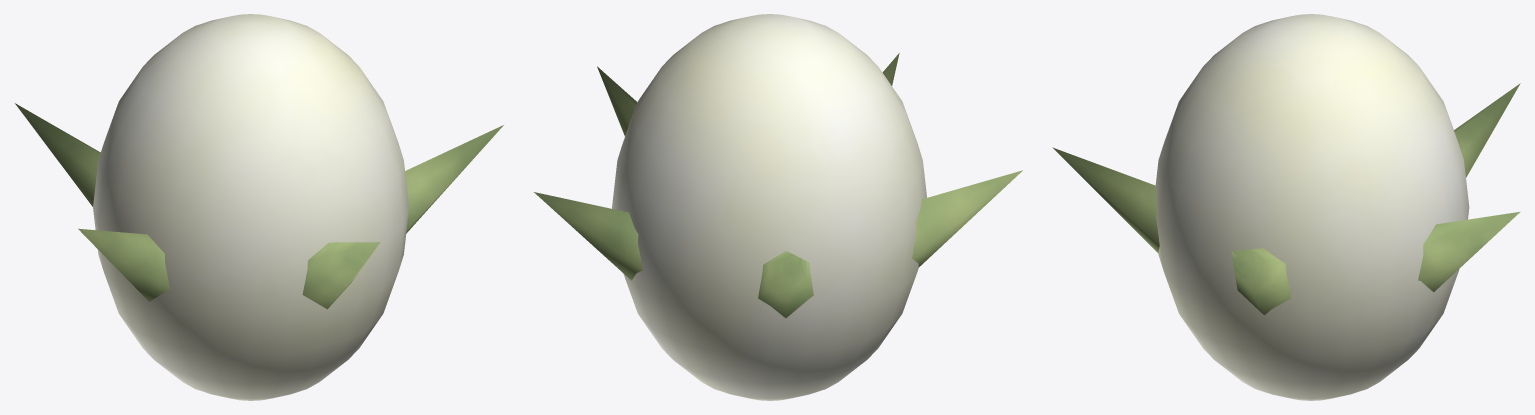
Rendered from xen_planta_foco.obj.
3 renders of one model, left to right at view 1: azimuth 30°, elevation 25°; view 2: azimuth 150°, elevation 25°; view 3: azimuth 270°, elevation 25°, orthographic.
Visible parts, largest first — view 1: xen_planta_foco; view 2: xen_planta_foco; view 3: xen_planta_foco.
Boxes of the visible parts, x1,y1,x2,y2 form: xen_planta_foco: [15, 14, 503, 400]; xen_planta_foco: [534, 14, 1022, 400]; xen_planta_foco: [1052, 14, 1520, 400].
Bounding box in the file's own units: 0.3428 × 0.28 × 0.326.
